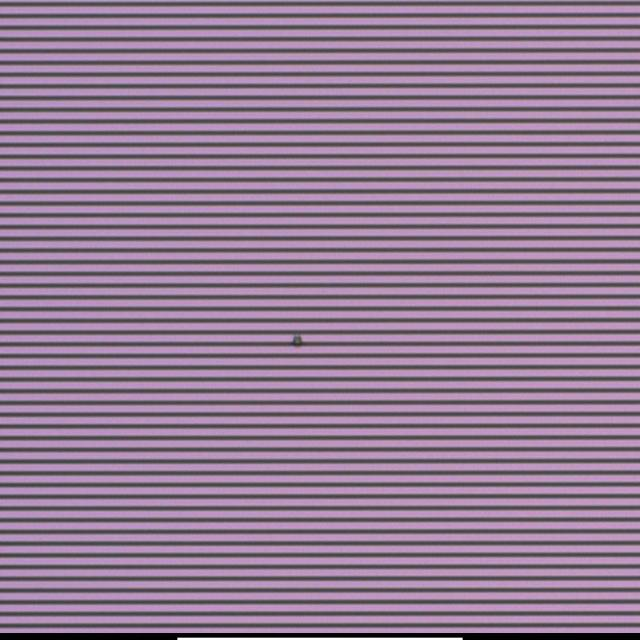03_intrusion: (282, 324, 306, 356)
